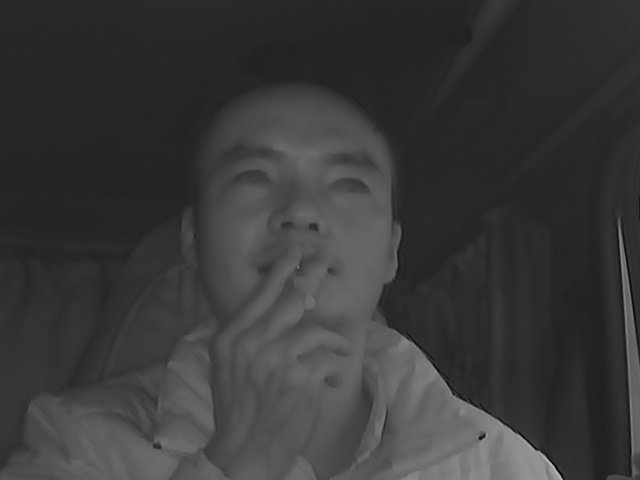hand: (227, 244, 353, 395)
